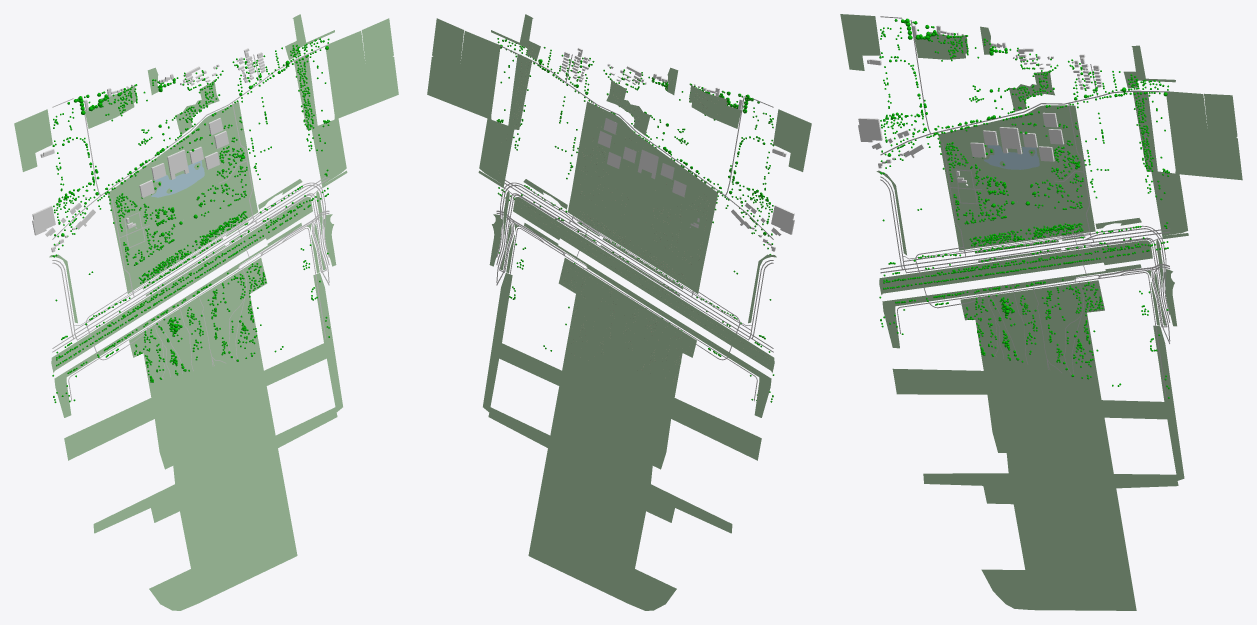
3 views of the same model, side by side, from view 1: azimuth 30°, elevation 25°; view 2: azimuth 150°, elevation 25°; view 3: azimuth 330°, elevation 25° (orthographic). The views are drawn at different scales.
Parts seen in each view (by area): view 1: TPX_GreenAreas, TPX_RoadsOutlines, TPX_Buildings, TPX_Waterways_1; view 2: TPX_GreenAreas, TPX_RoadsOutlines, TPX_Buildings; view 3: TPX_GreenAreas, TPX_RoadsOutlines, TPX_Buildings, TPX_Waterways_1.
Boxes of the visible parts, x1=… form: TPX_GreenAreas: x1=14, y1=14, x2=398, y2=610; TPX_RoadsOutlines: x1=52, y1=44, x2=329, y2=401; TPX_Buildings: x1=32, y1=48, x2=265, y2=252; TPX_Waterways_1: x1=151, y1=160, x2=204, y2=197; TPX_GreenAreas: x1=427, y1=14, x2=811, y2=610; TPX_RoadsOutlines: x1=496, y1=46, x2=773, y2=401; TPX_Buildings: x1=561, y1=47, x2=794, y2=251; TPX_GreenAreas: x1=840, y1=14, x2=1242, y2=610; TPX_RoadsOutlines: x1=880, y1=16, x2=1170, y2=398; TPX_Buildings: x1=858, y1=25, x2=1102, y2=186; TPX_Waterways_1: x1=984, y1=145, x2=1039, y2=169.
Bounding box in the file's own units: 1388 × 1958 × 17.
